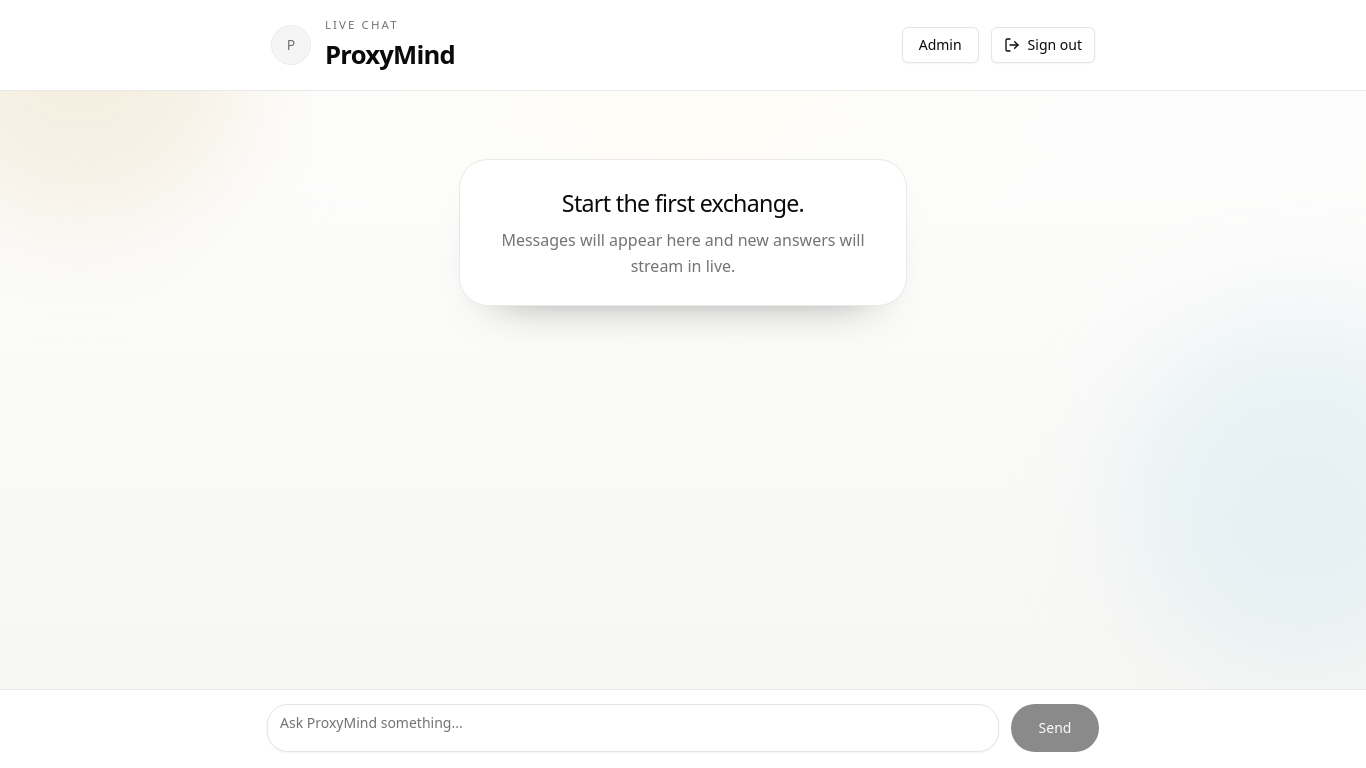
it: ChatPage integration › shows the already-processing error for HTTP 409
The width and height of the screenshot is (1366, 768).
Type "One more" into the text box labelled "Ask ProxyMind something..." at (633, 728), box [267, 704, 999, 752]
Then press Enter
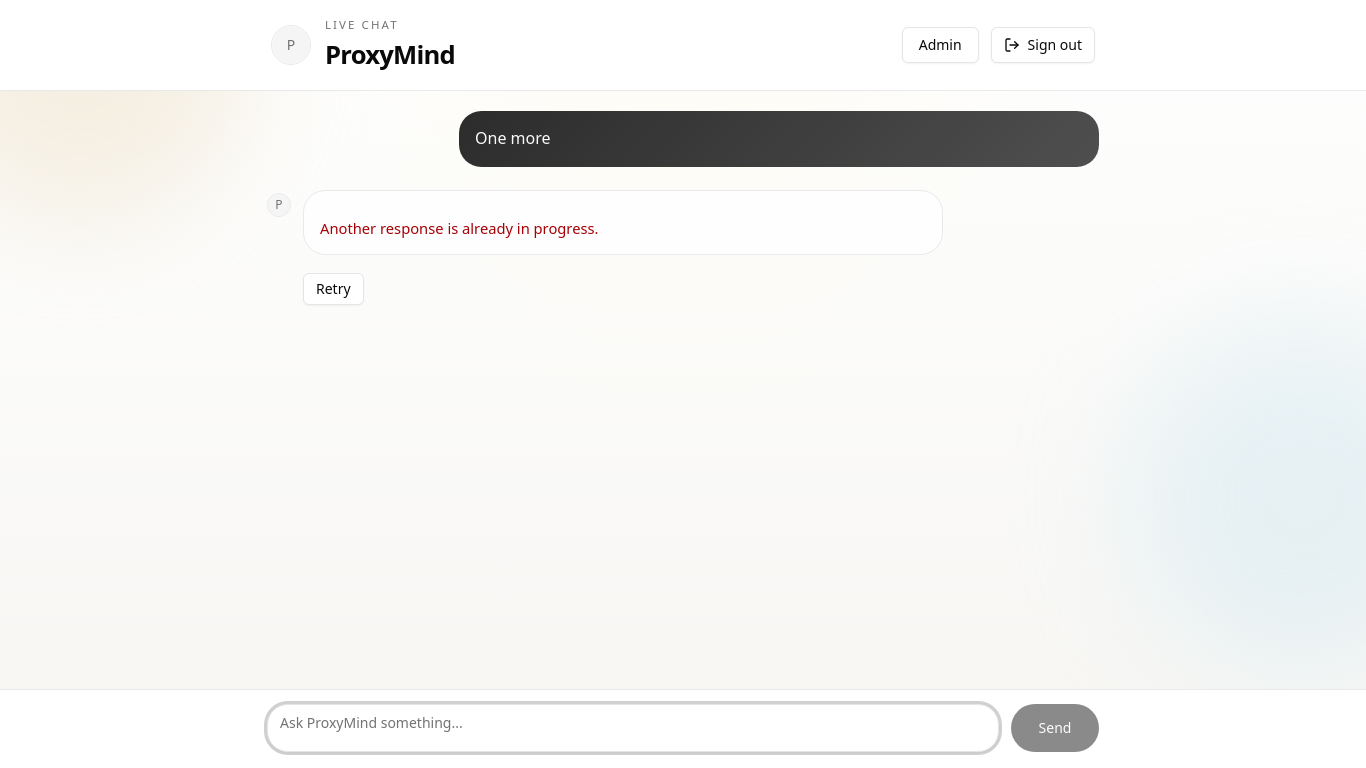
Now the text "Another response is already in progress." is shown, box [320, 218, 598, 238]
